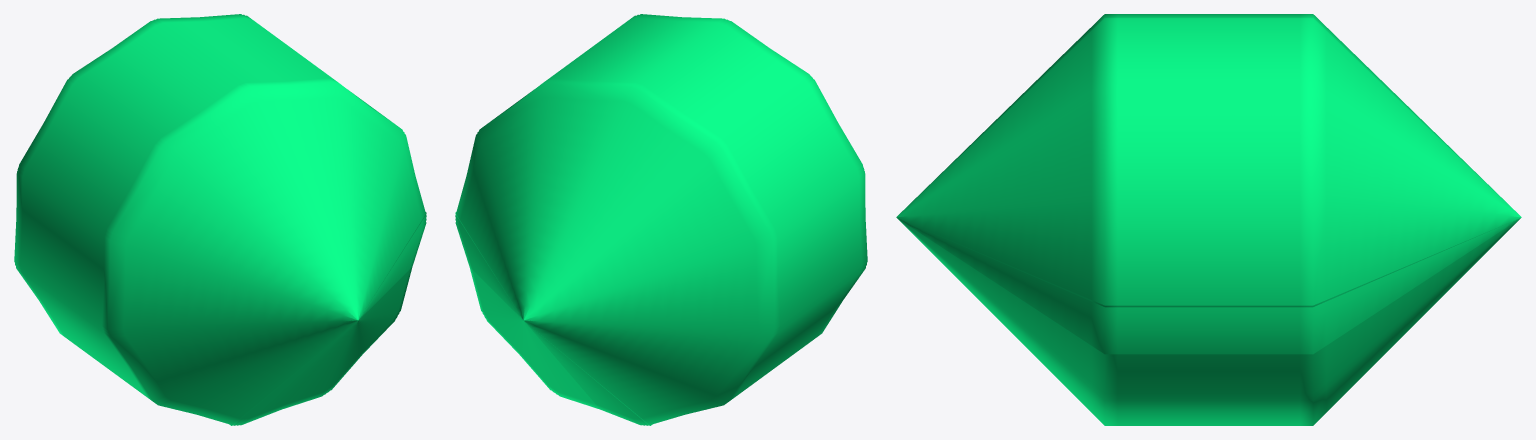
File: quartz_crystal_solid_fallback_1767822828676.glb
3 renders of one model, left to right at view 1: azimuth 30°, elevation 25°; view 2: azimuth 150°, elevation 25°; view 3: azimuth 270°, elevation 25°, orthographic. The views are drawn at different scales.
Visible parts, largest first — view 1: MathShape; view 2: MathShape; view 3: MathShape.
Part boxes in pixels (left/top/right/bottom): MathShape: left=14, top=14, right=426, bottom=425; MathShape: left=455, top=14, right=867, bottom=425; MathShape: left=896, top=14, right=1521, bottom=425.
Size of the model in its own units: 1.97 by 1.99 by 3.
